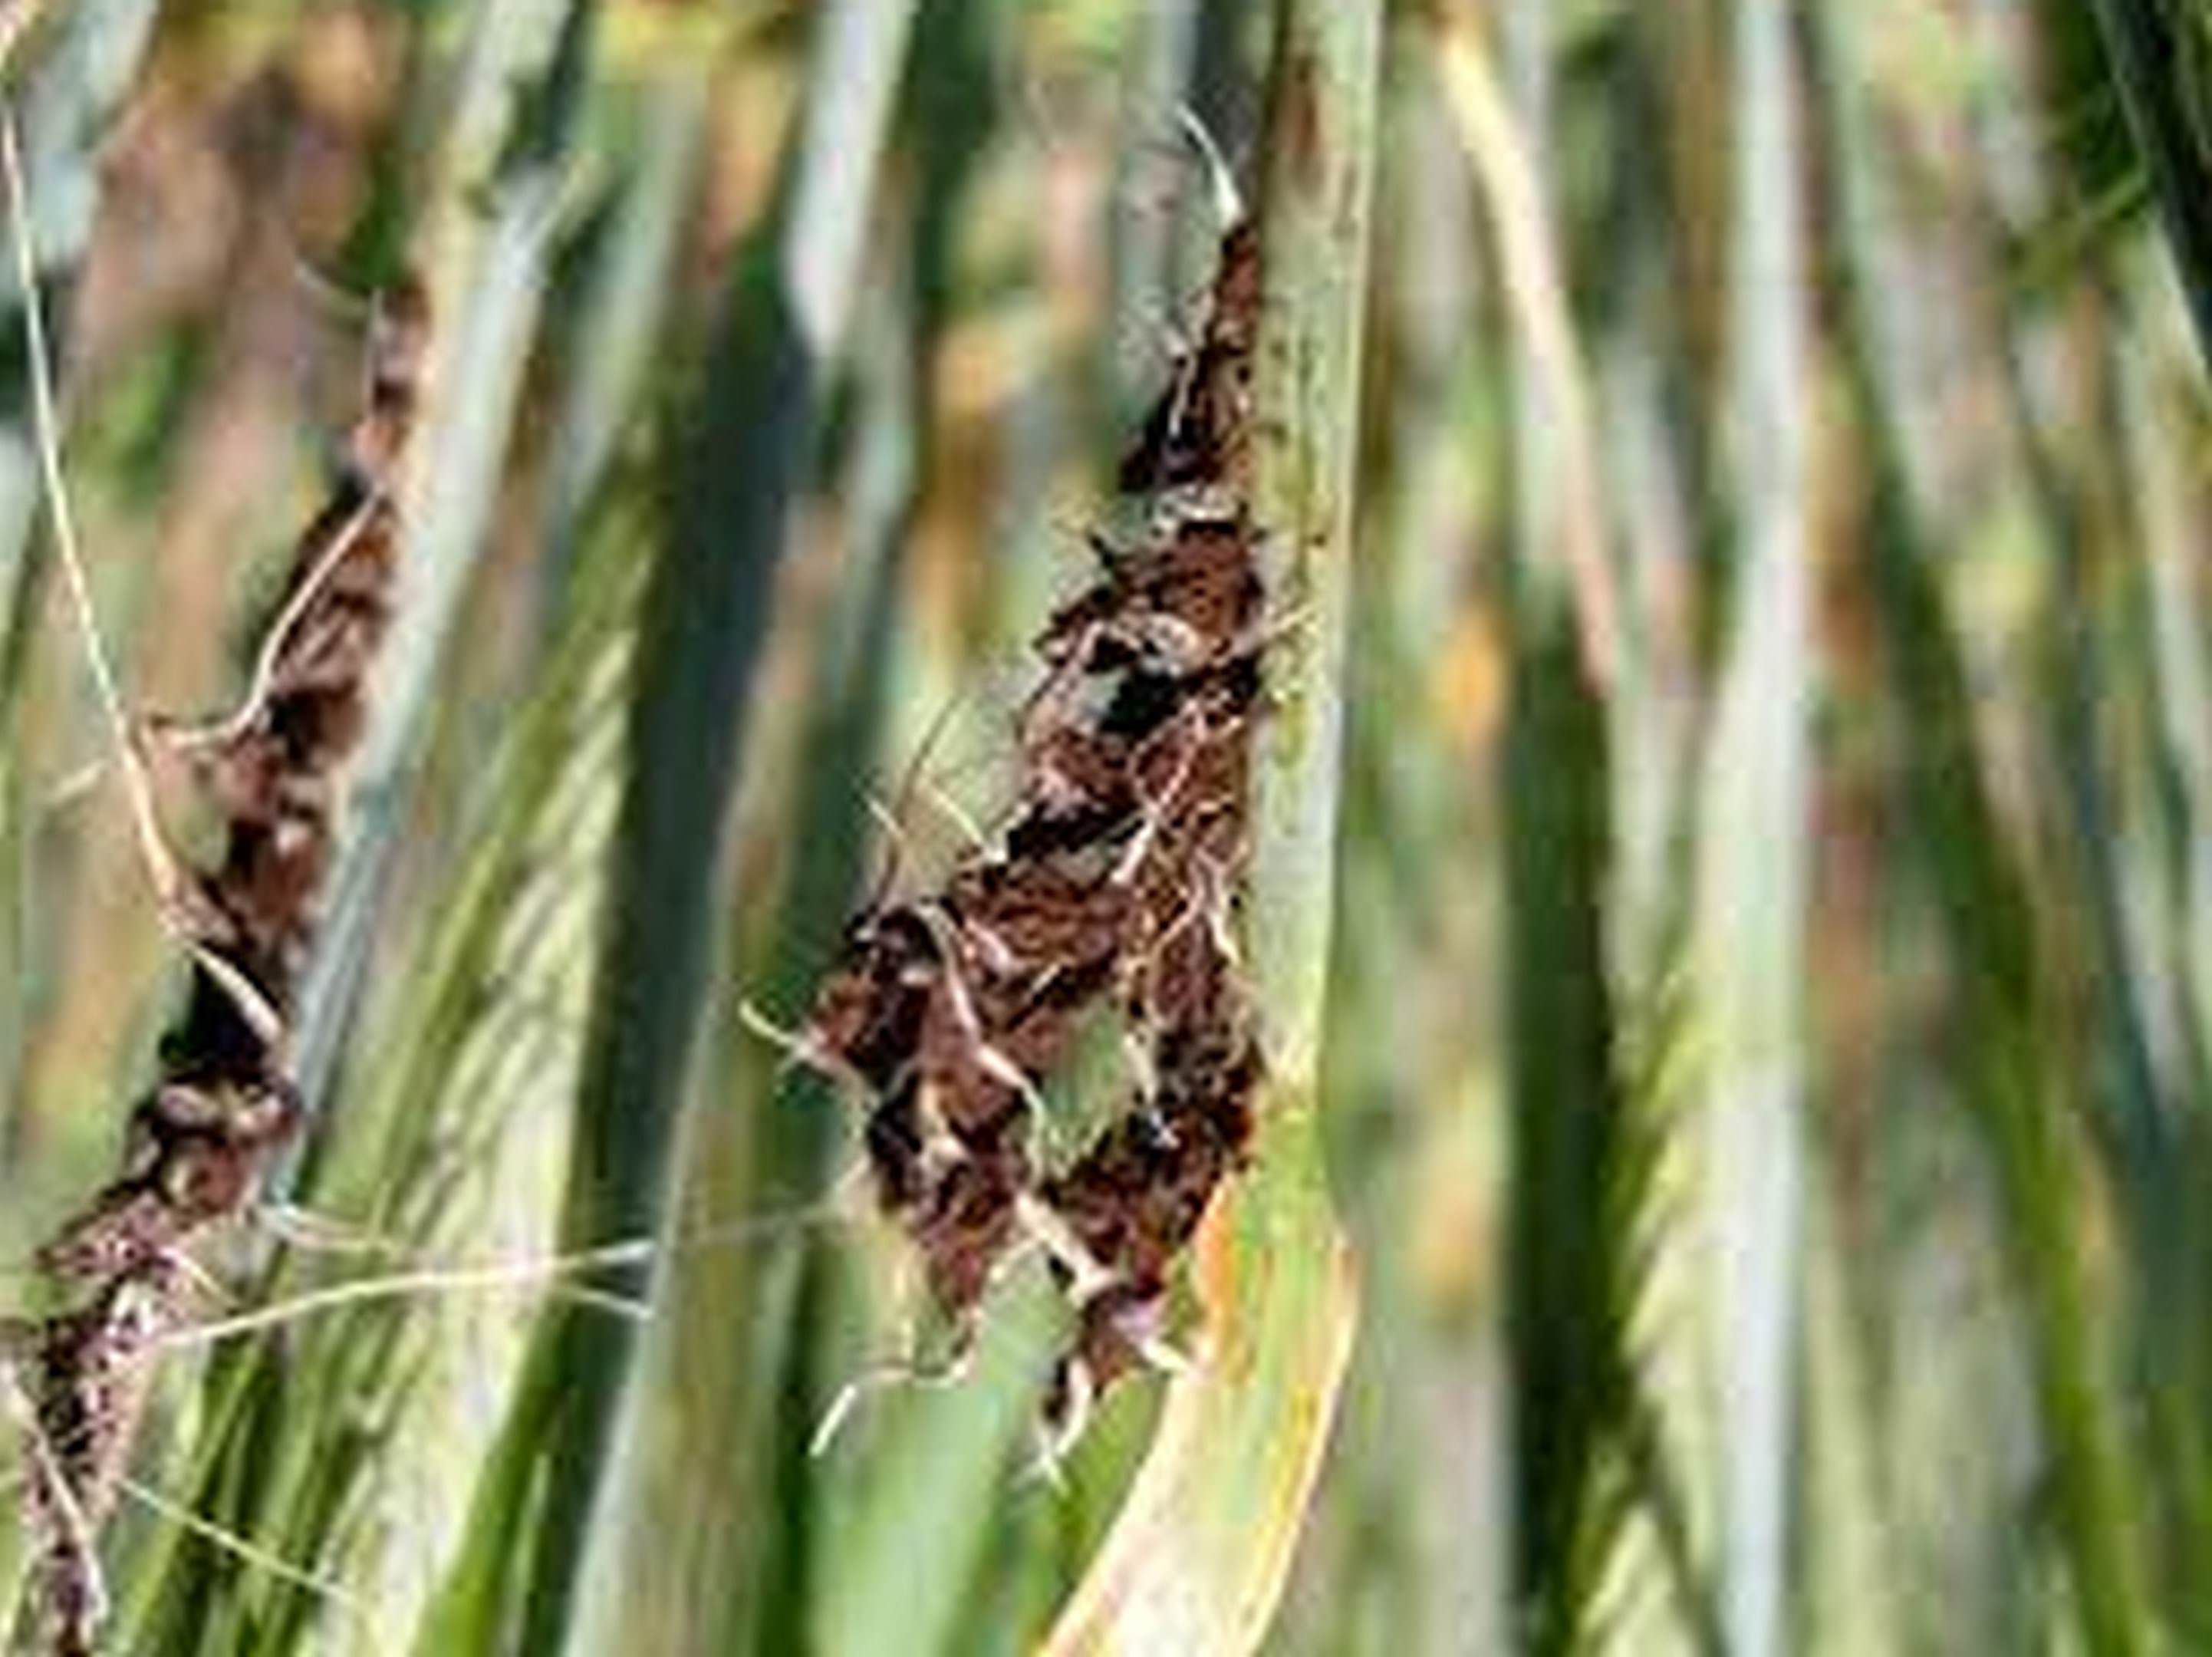Wheat Loose Smut: (804, 308, 1344, 1443)
